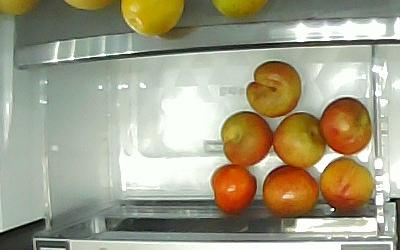prune: (245, 59, 301, 118), (317, 96, 372, 155), (318, 156, 374, 211), (219, 110, 273, 167), (261, 163, 318, 217), (272, 111, 325, 168), (209, 163, 257, 213)
